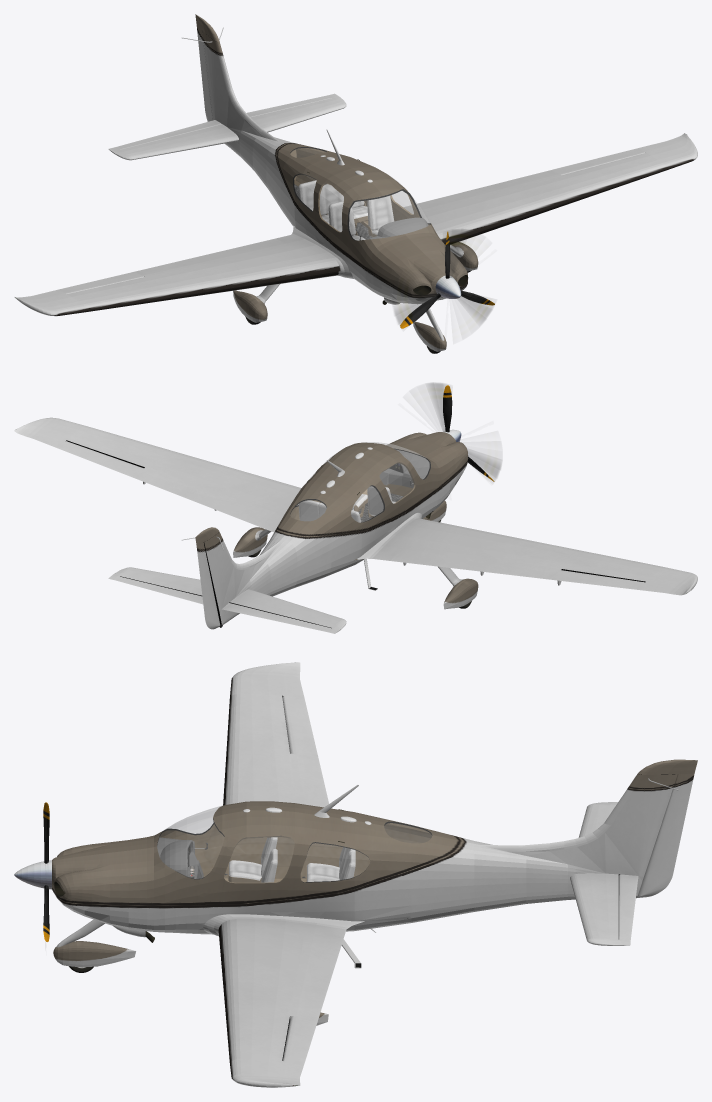
3 views of the same model, one above another, from view 1: azimuth 30°, elevation 25°; view 2: azimuth 150°, elevation 25°; view 3: azimuth 270°, elevation 25° (orthographic). The views are drawn at different scales.
Parts seen in each view (by area): view 1: sr22.ac:DefaultWhite, sr22.ac:transparent (×2), seat.ac:DefaultWhite, interior.ac:DefaultWhite, panel.ac:DefaultWhite; view 2: sr22.ac:DefaultWhite, sr22.ac:transparent (×2), seat.ac:DefaultWhite, panel.ac:DefaultWhite, interior.ac:DefaultWhite; view 3: sr22.ac:DefaultWhite, sr22.ac:transparent, interior.ac:DefaultWhite, seat.ac:DefaultWhite, panel.ac:DefaultWhite, interior.ac:transparent.
Boxes of the visible parts, x1,y1,x2,y2 form: sr22.ac:DefaultWhite: (14, 14, 697, 353); sr22.ac:transparent (×2): (290, 147, 493, 326); seat.ac:DefaultWhite: (298, 180, 394, 240); interior.ac:DefaultWhite: (290, 147, 430, 240); panel.ac:DefaultWhite: (367, 217, 428, 239); sr22.ac:DefaultWhite: (14, 385, 697, 633); sr22.ac:transparent (×2): (290, 383, 501, 522); seat.ac:DefaultWhite: (298, 486, 395, 522); panel.ac:DefaultWhite: (379, 449, 429, 488); interior.ac:DefaultWhite: (290, 448, 430, 559); sr22.ac:DefaultWhite: (14, 662, 697, 1087); sr22.ac:transparent: (157, 806, 431, 882); interior.ac:DefaultWhite: (157, 818, 432, 918); seat.ac:DefaultWhite: (224, 837, 355, 882); panel.ac:DefaultWhite: (157, 837, 203, 878); interior.ac:transparent: (167, 806, 220, 833).
Size of the model in its own units: 11.58 by 2.71 by 7.91.
38 materials, 23 textured.
